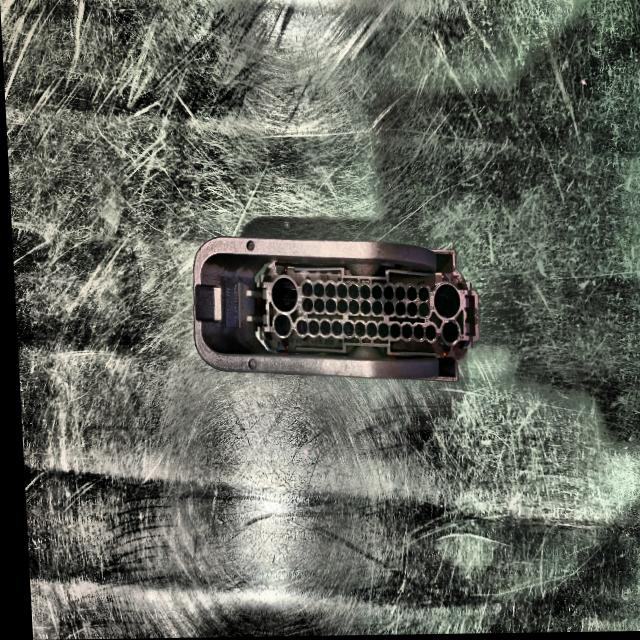P38: (190, 238, 475, 382)
